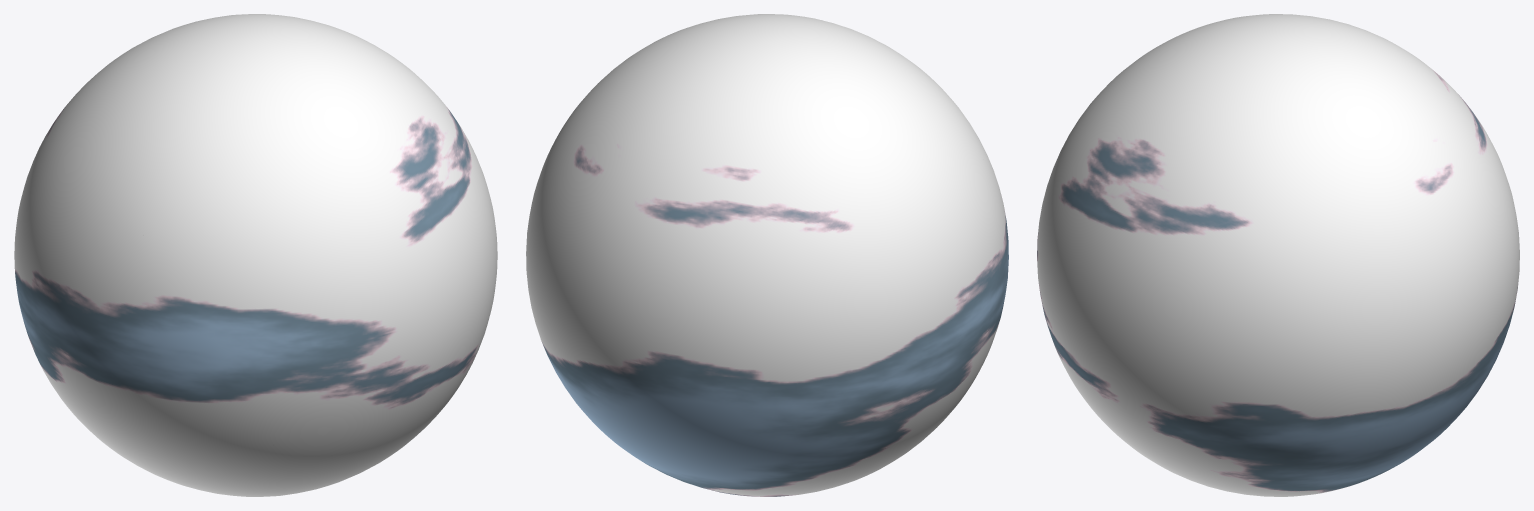
Rendered from neptuno.glb.
3 renders of one model, left to right at view 1: azimuth 30°, elevation 25°; view 2: azimuth 150°, elevation 25°; view 3: azimuth 270°, elevation 25°, orthographic.
Visible parts, largest first — view 1: Neptuno; view 2: Neptuno; view 3: Neptuno.
Part boxes in pixels (box(x1,y1,x2,y2)): Neptuno: box(14, 14, 497, 496); Neptuno: box(526, 14, 1008, 496); Neptuno: box(1037, 14, 1519, 496).
Size of the model in its own units: 0.1682 by 0.1686 by 0.1683.
Materials: 1 (1 with a texture image).
